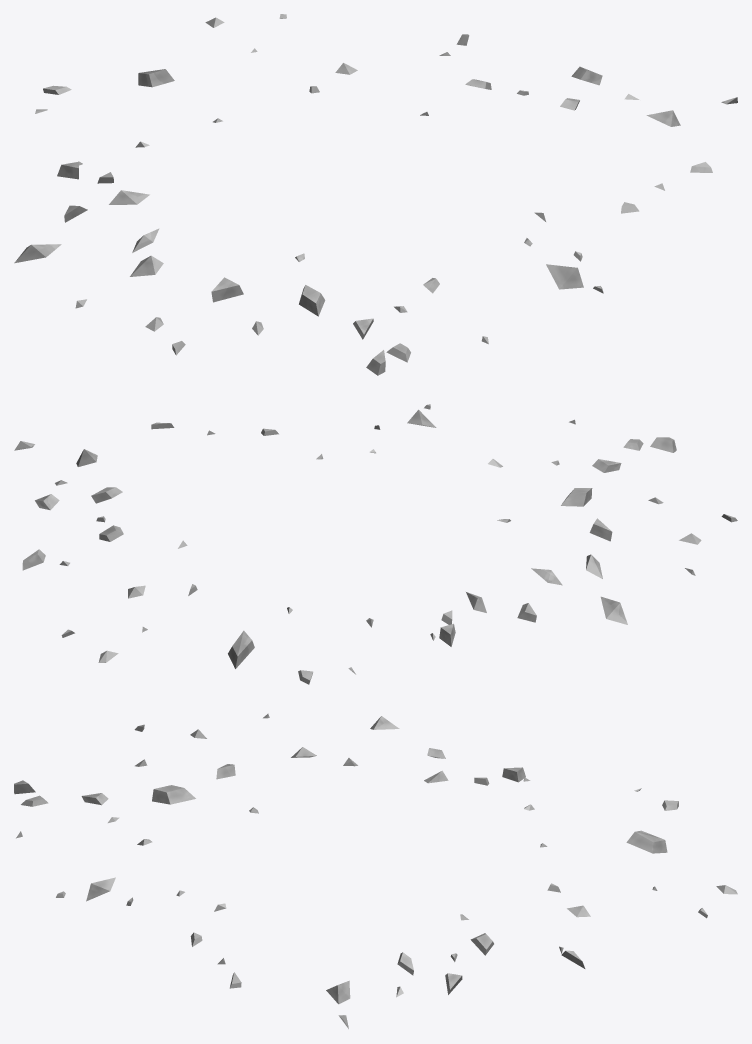
Rendered from sculpted_pebbles_04.glb.
3 views of the same model, one above another, from view 1: azimuth 30°, elevation 25°; view 2: azimuth 150°, elevation 25°; view 3: azimuth 270°, elevation 25° (orthographic). The views are drawn at different scales.
Visible parts, largest first — view 1: sculpted_pebbles_04; view 2: sculpted_pebbles_04; view 3: sculpted_pebbles_04.
Boxes of the visible parts, <box> form: sculpted_pebbles_04: <box>14,14,737,375</box>; sculpted_pebbles_04: <box>14,404,737,684</box>; sculpted_pebbles_04: <box>14,713,737,1028</box>.
Size of the model in its own units: 1.96 by 0.0732 by 1.93.
Materials: 1 (1 with a texture image).
